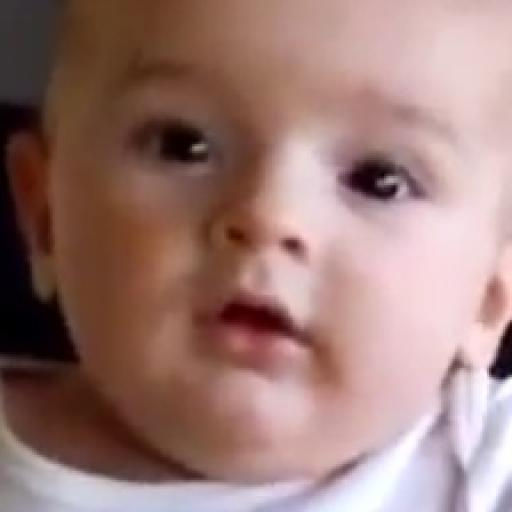Autism: (18, 0, 512, 501)
